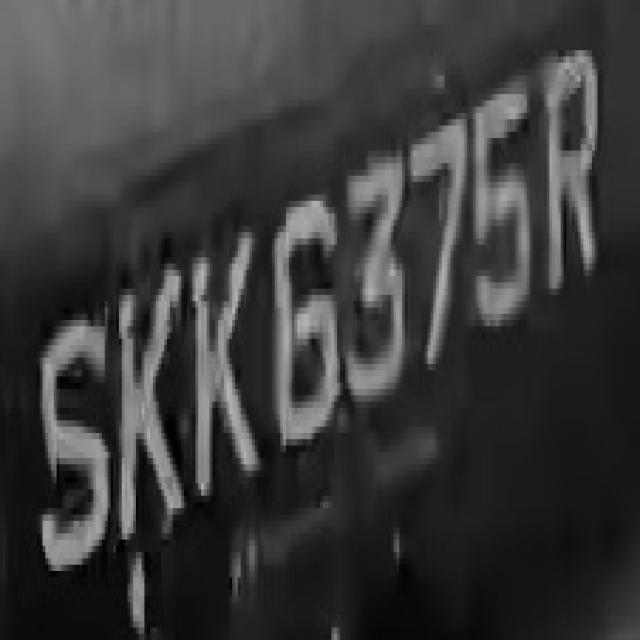3: (329, 138, 402, 420)
5: (467, 44, 535, 345)
6: (269, 163, 346, 439)
7: (394, 94, 470, 383)
K: (108, 238, 187, 540), (187, 213, 263, 521)
R: (538, 38, 609, 295)
S: (34, 270, 110, 577)
